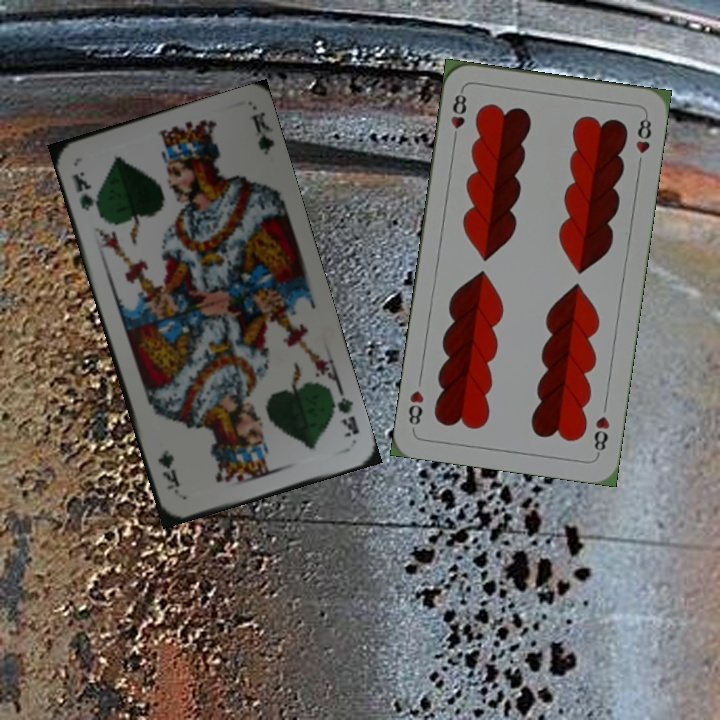GK: (326, 385, 362, 440), (67, 167, 103, 217)
H8: (447, 86, 469, 145), (590, 412, 612, 458)
